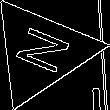N_SE: (6, 23, 75, 80)
